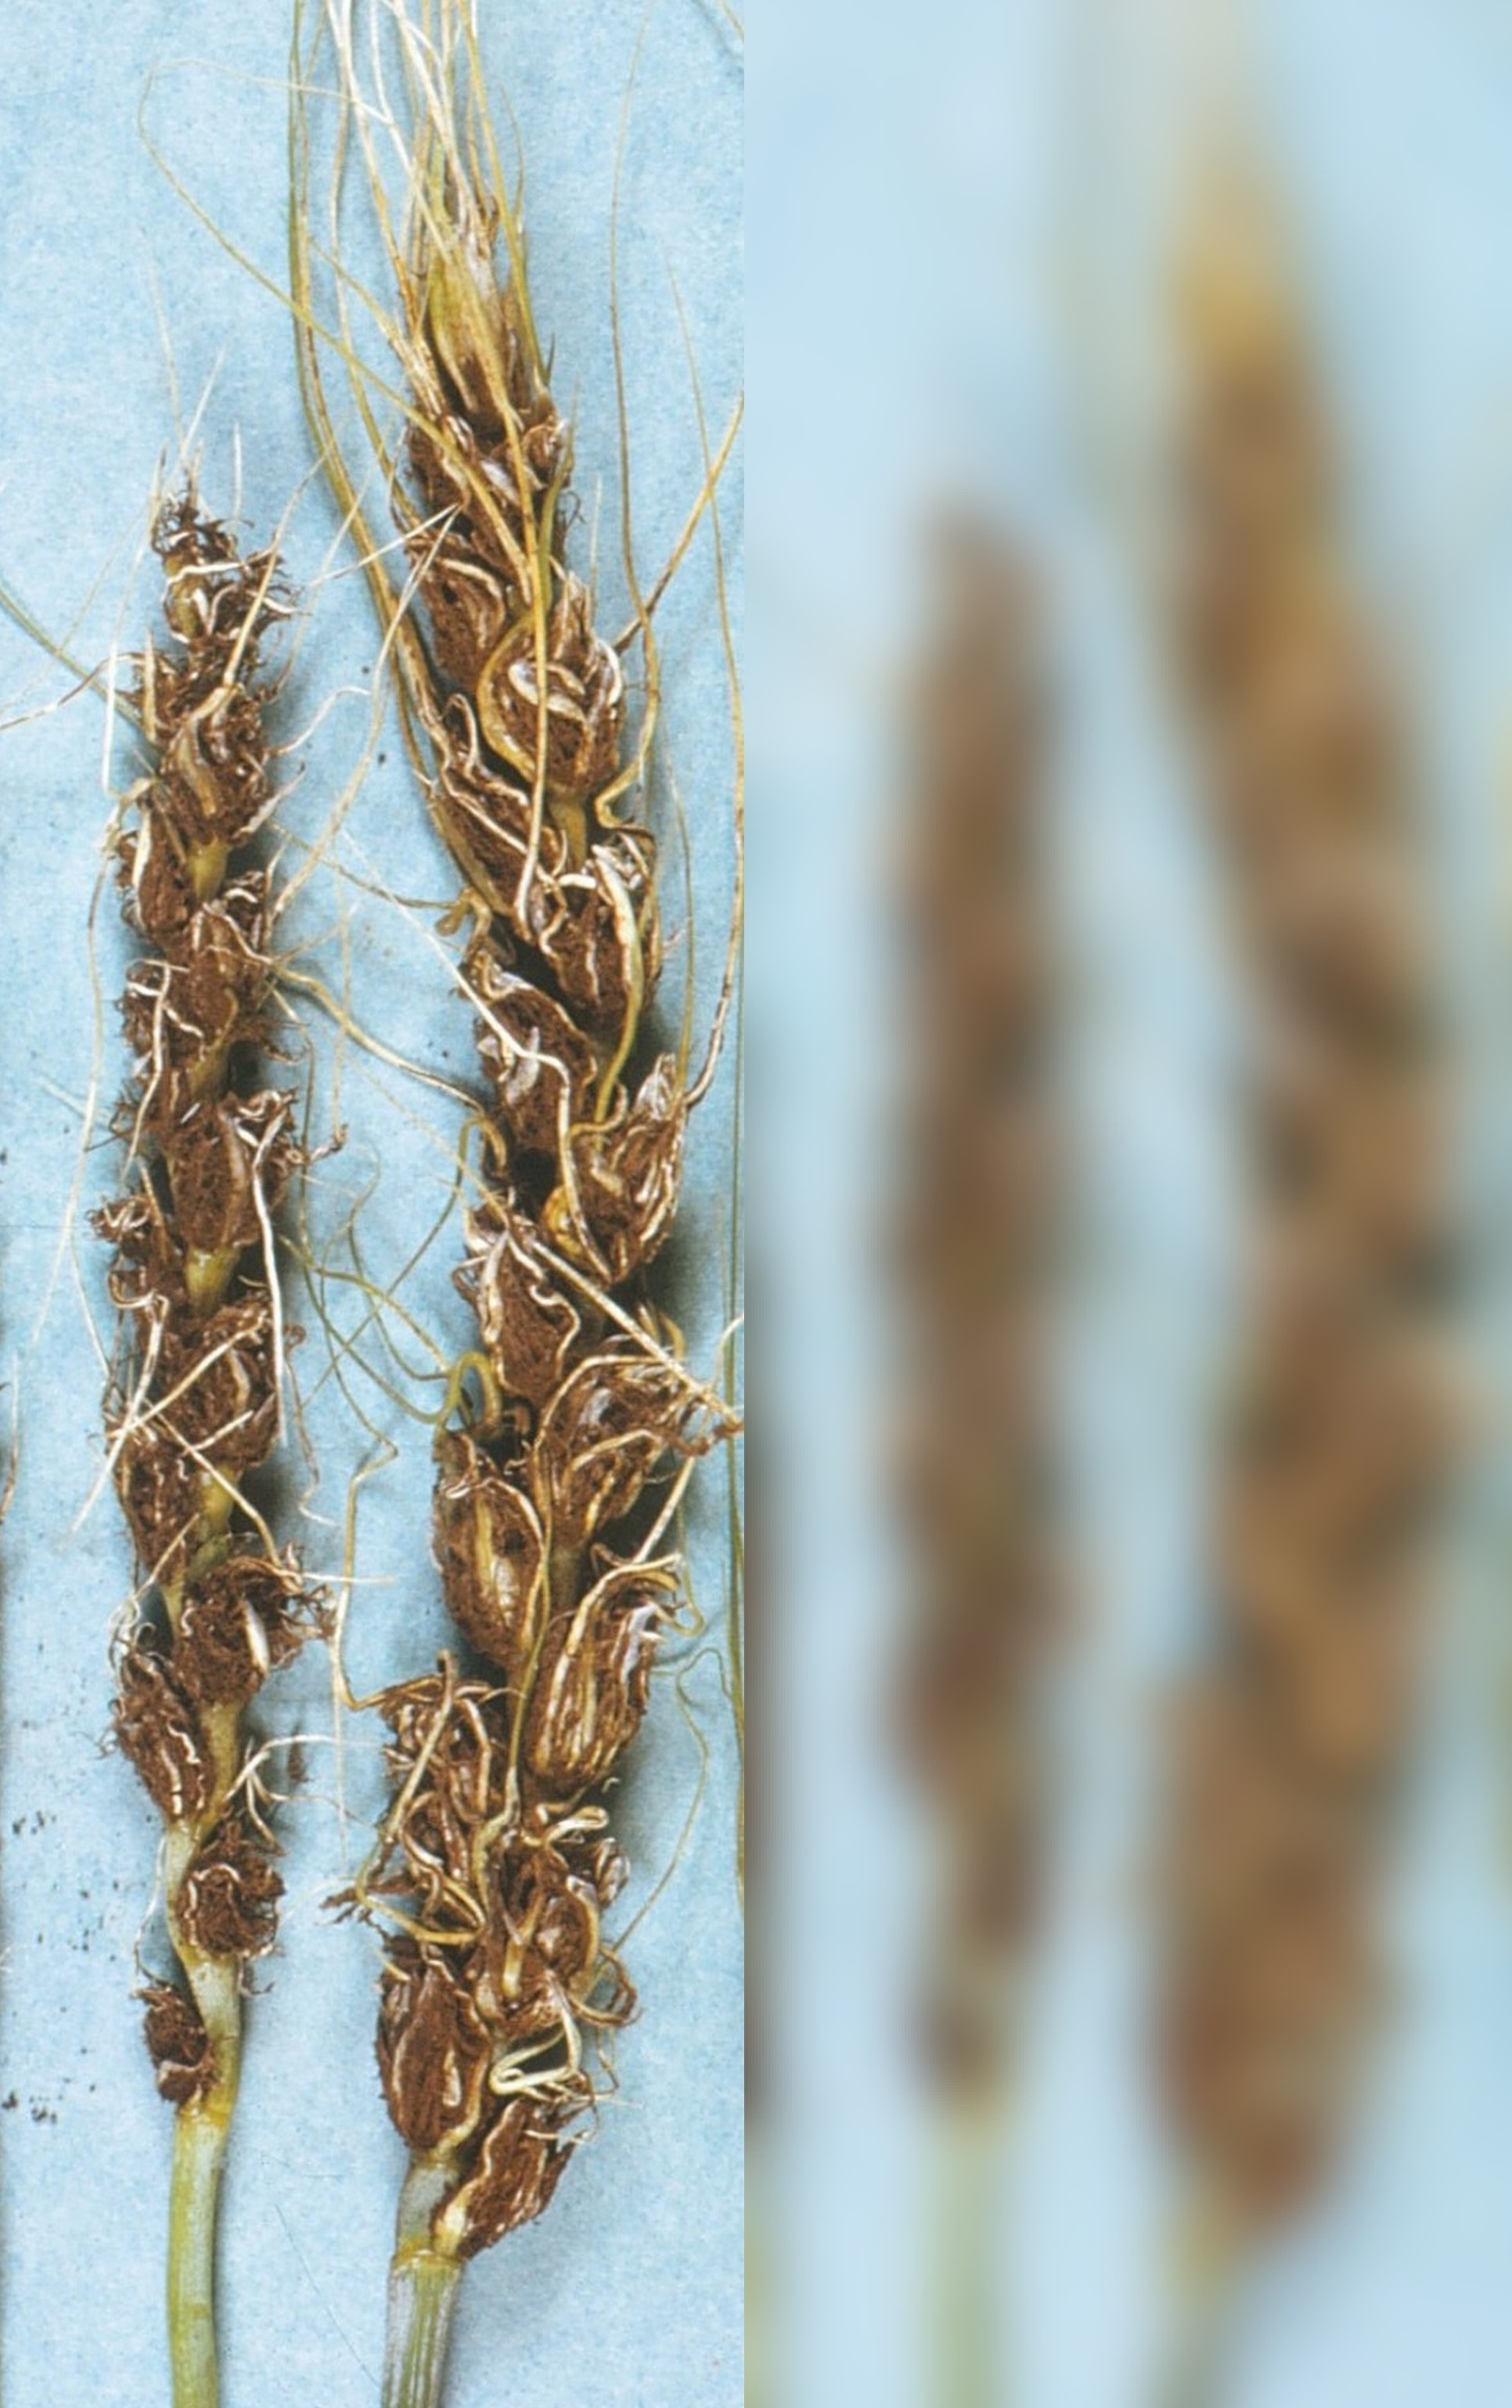Wheat Loose Smut: (301, 92, 740, 2023)
